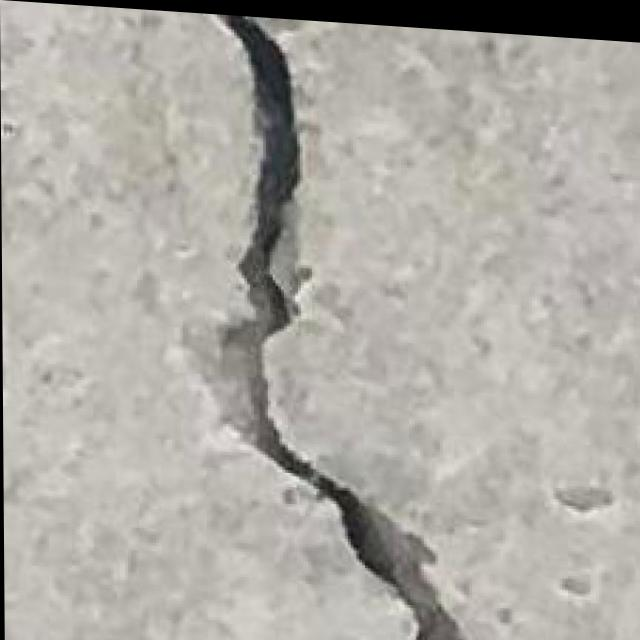Crack: (166, 12, 486, 640)
